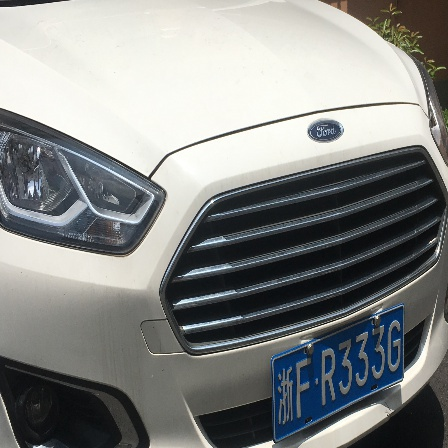plate: (271, 308, 404, 425)
